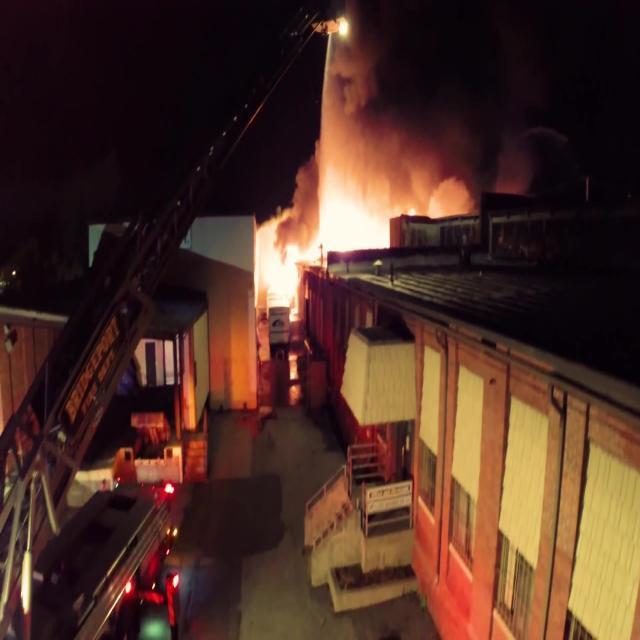Fire: (253, 181, 429, 312)
